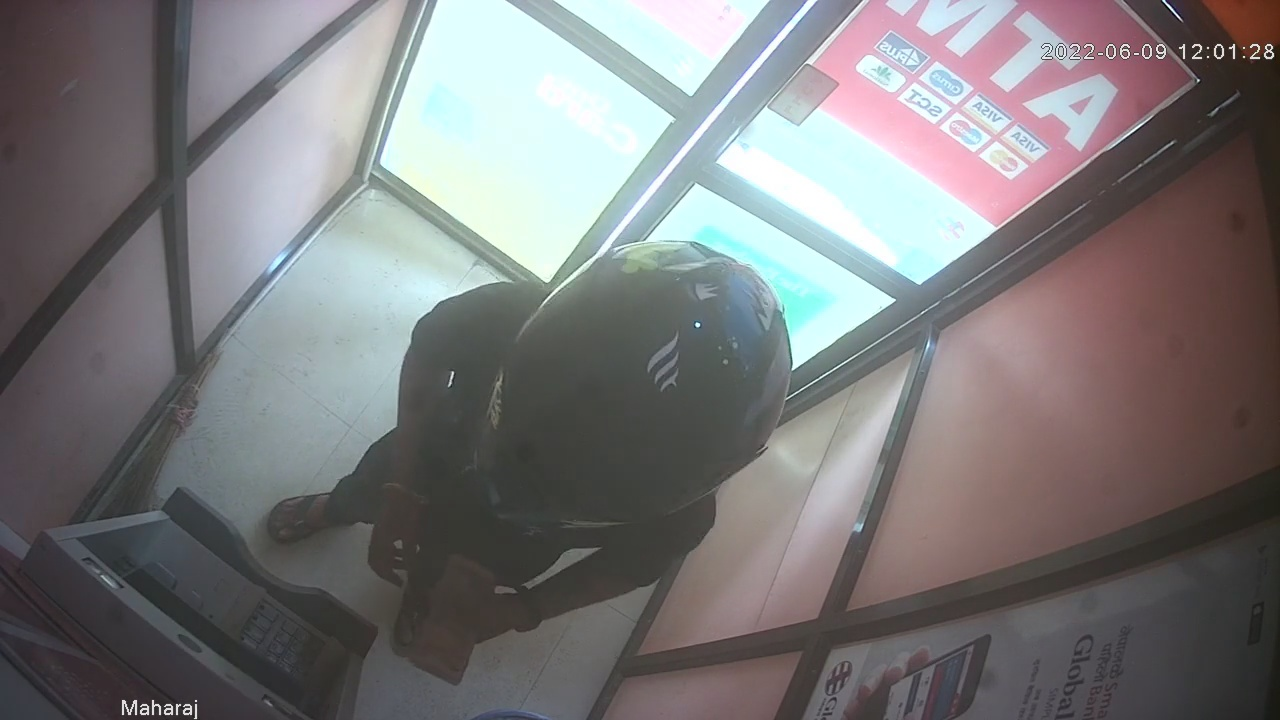helmet: (479, 238, 793, 527)
person: (266, 237, 794, 689)
